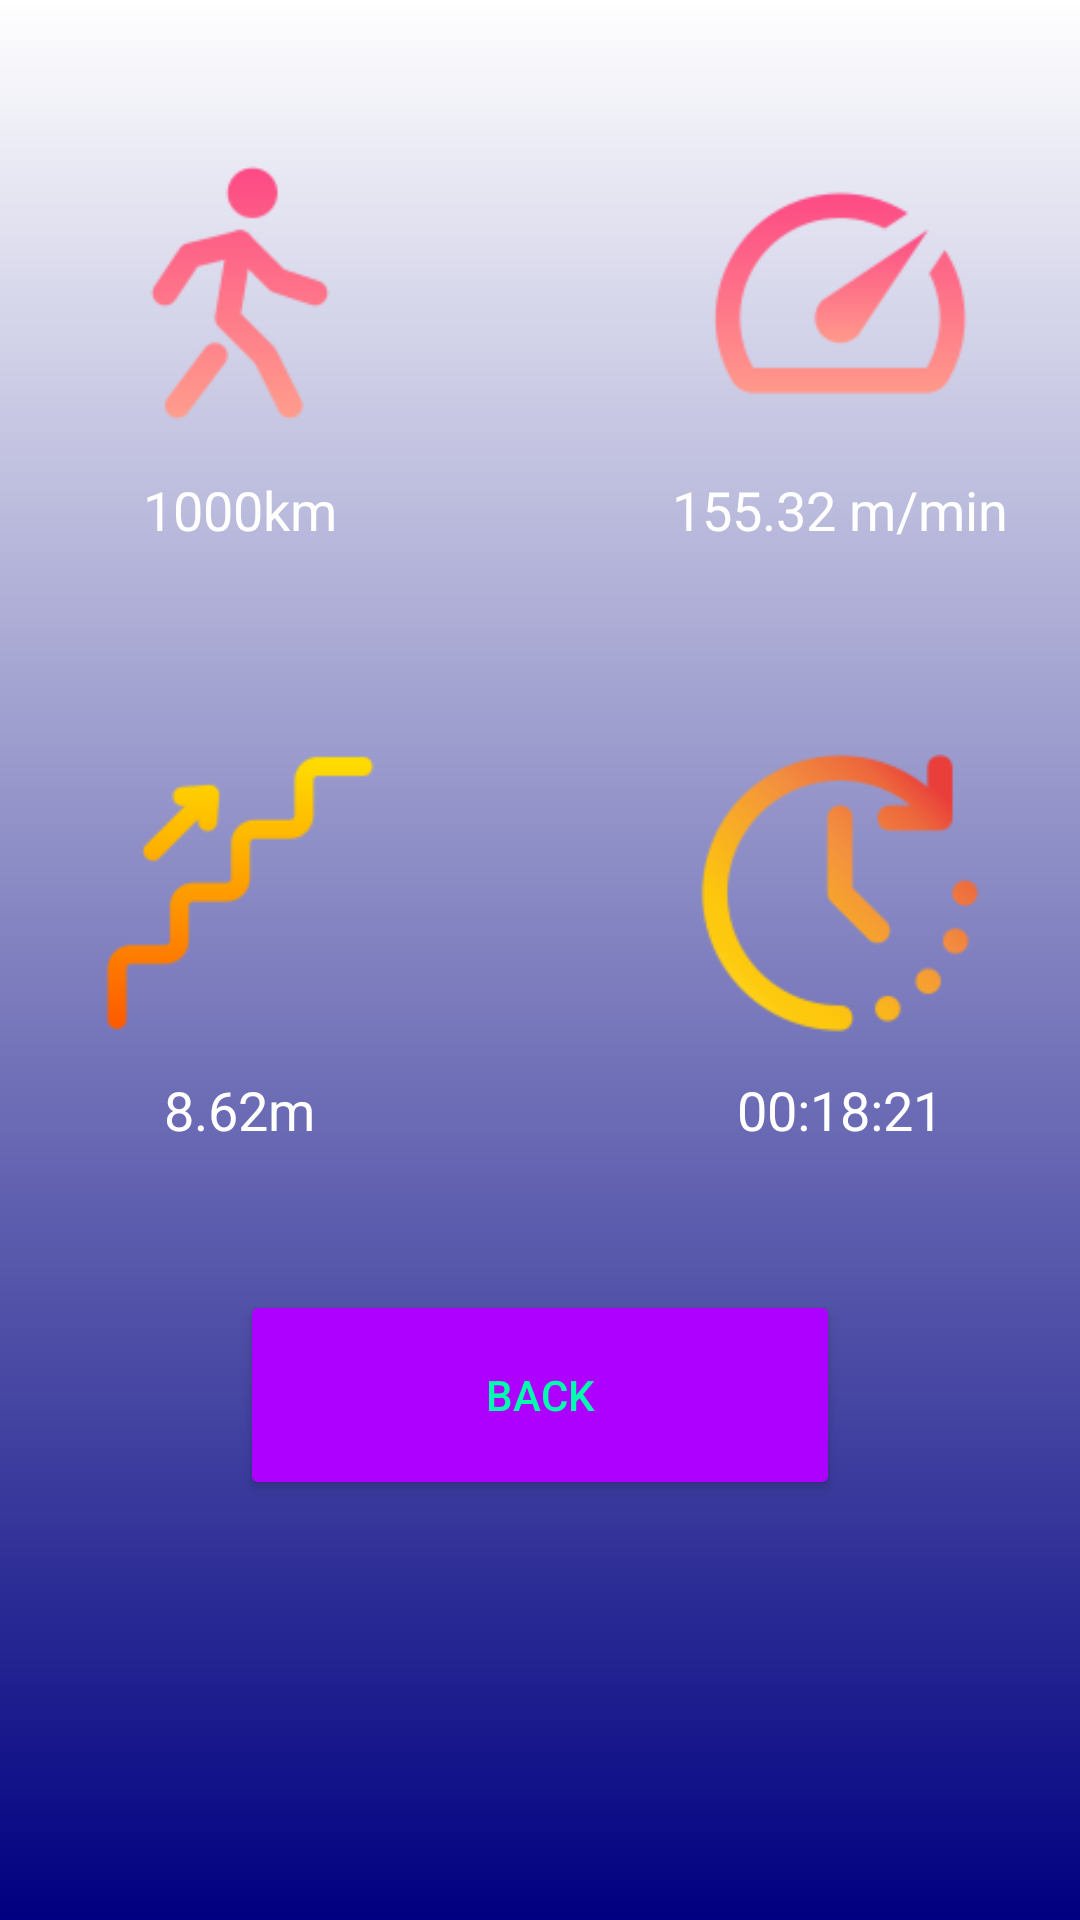

Screen size 1080 x 1920. Icon name, then its center in pixels as point (x, y):
elevation: point (240, 893)
speed: point (840, 293)
time: point (840, 893)
walking: point (240, 293)
